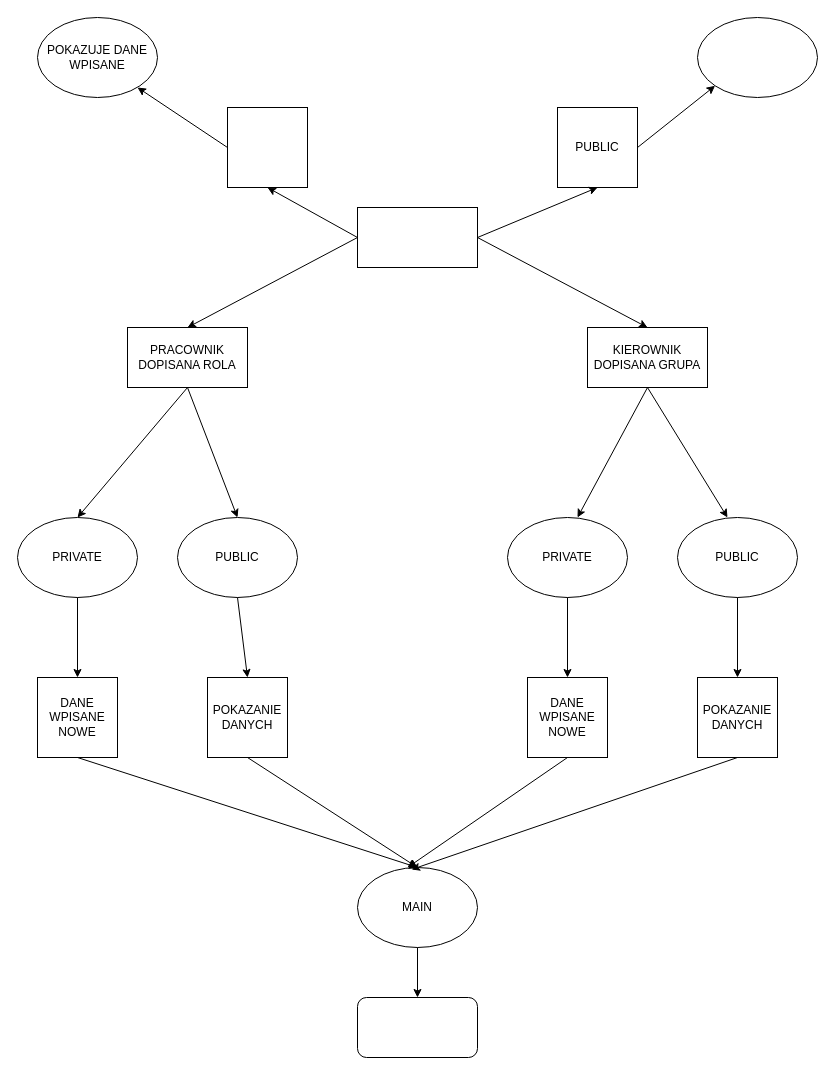
Some shapes in this 835 by 1075 pixel diagram are drawn without their labels. Each missing label, with the box of its shape:
GŁÓWNA KLAS: (356, 206, 478, 268)
POKAZANIE WSZYSTKICH DANYCH RAZEM: (356, 996, 478, 1058)
POKAZUJE WSZYSTKIE DANE WPISANE: (696, 16, 818, 98)
PROTECTED: (226, 106, 308, 188)
